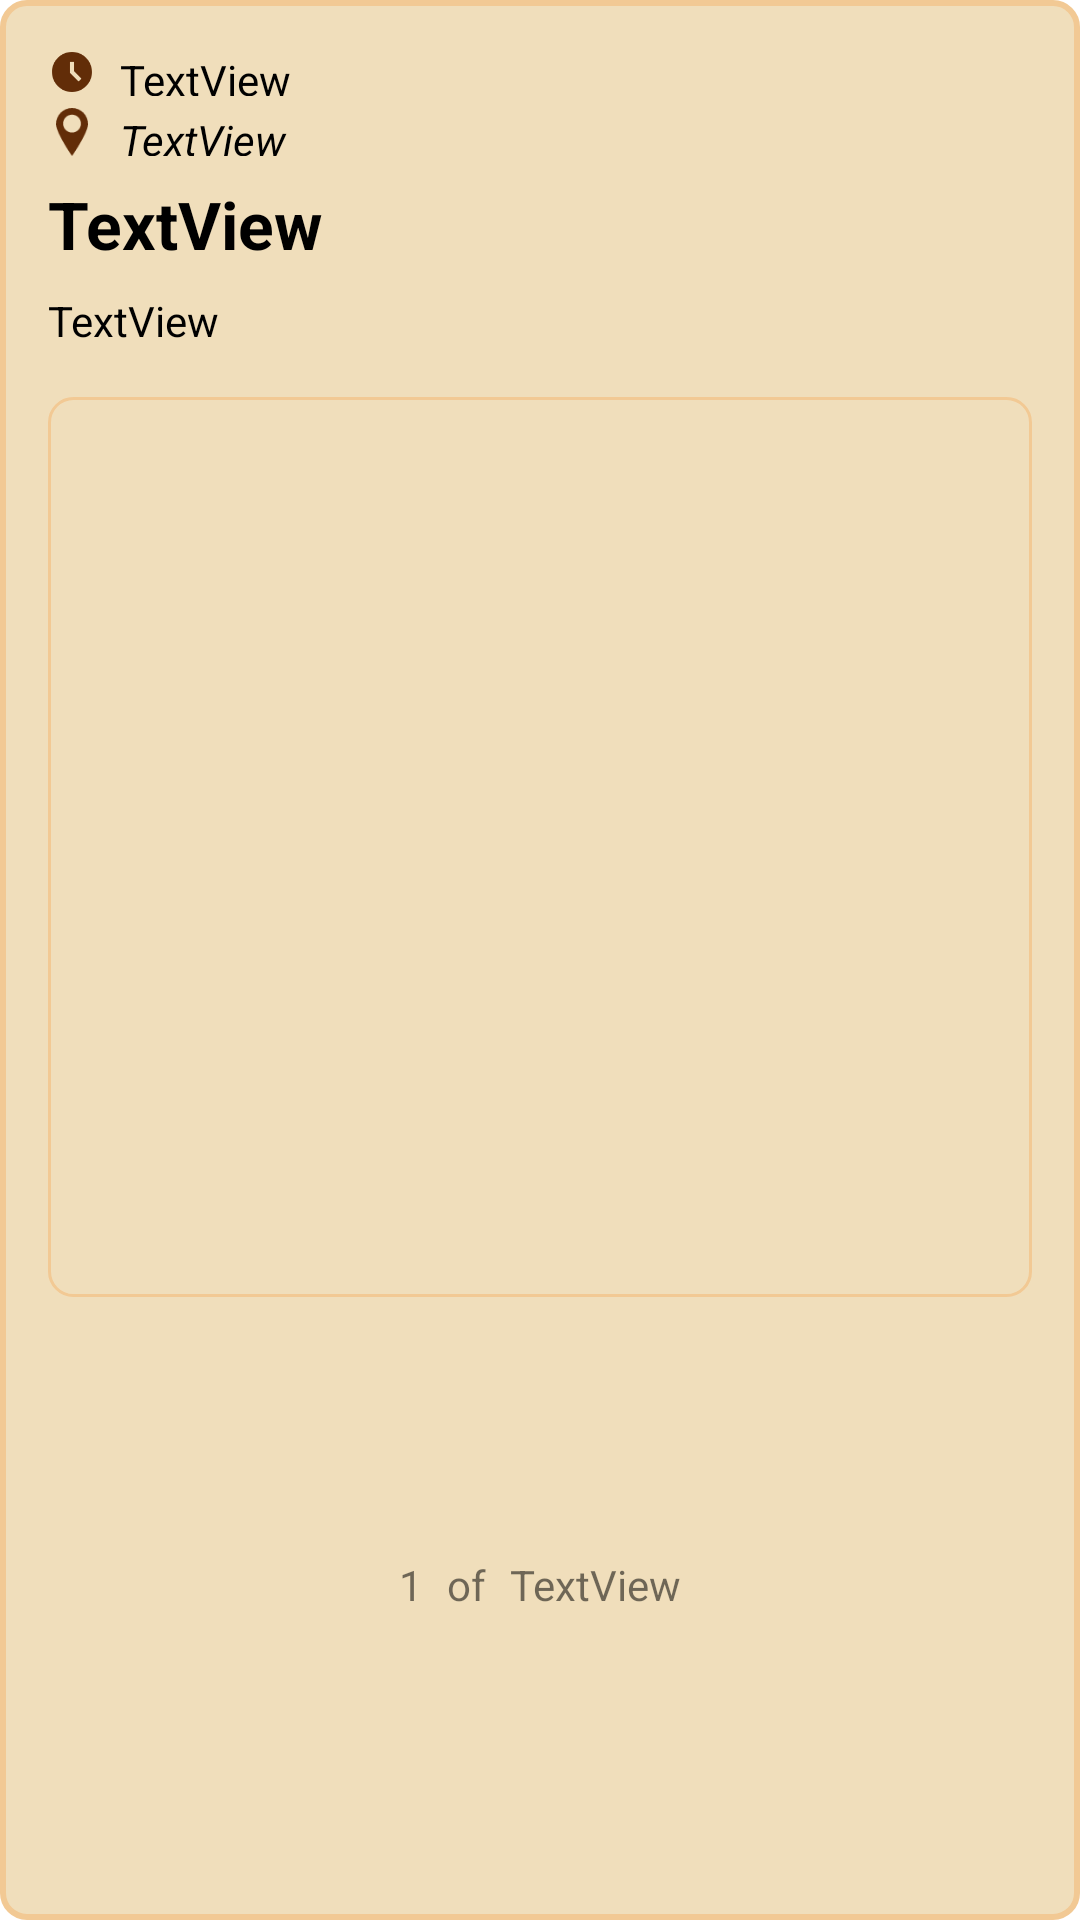

Named icons in this screenshot (1080px x 1920px) and their bounding boxes, (x1, y1, x2, y2):
access time: (52, 52, 92, 92)
map marker: (56, 108, 88, 156)
